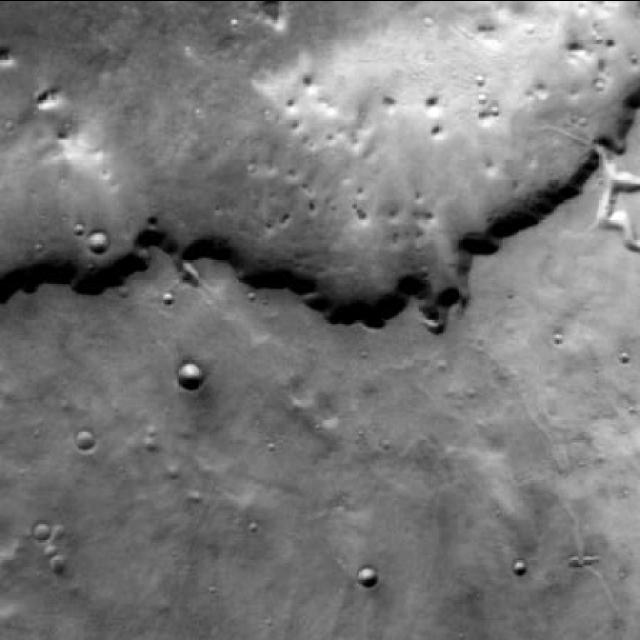crater: (177, 360, 201, 386), (88, 230, 110, 252), (76, 429, 95, 448), (358, 567, 376, 587), (29, 520, 45, 537)
